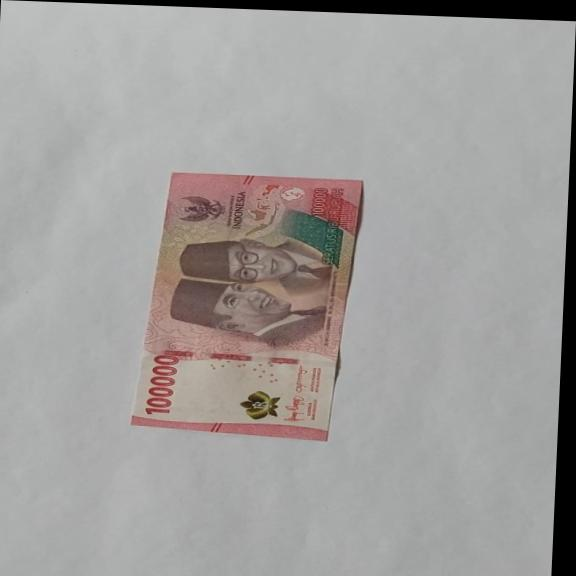Kertas: (130, 170, 366, 442), (143, 353, 181, 416)
